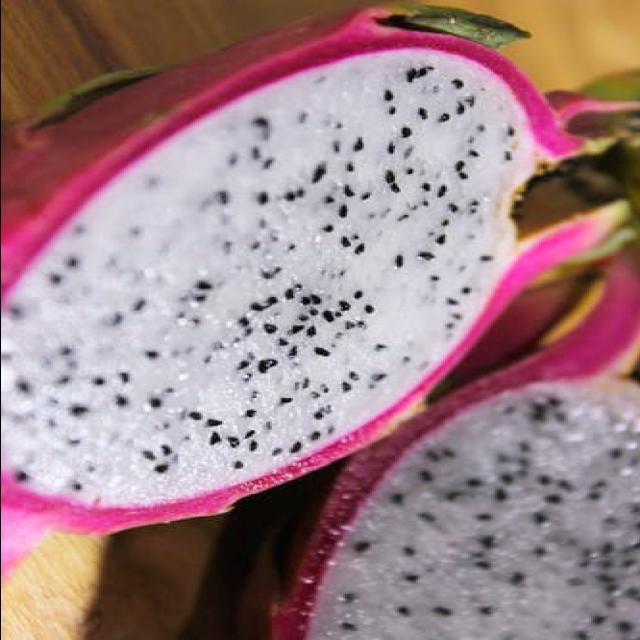trang: (1, 0, 599, 546), (264, 246, 640, 638)
